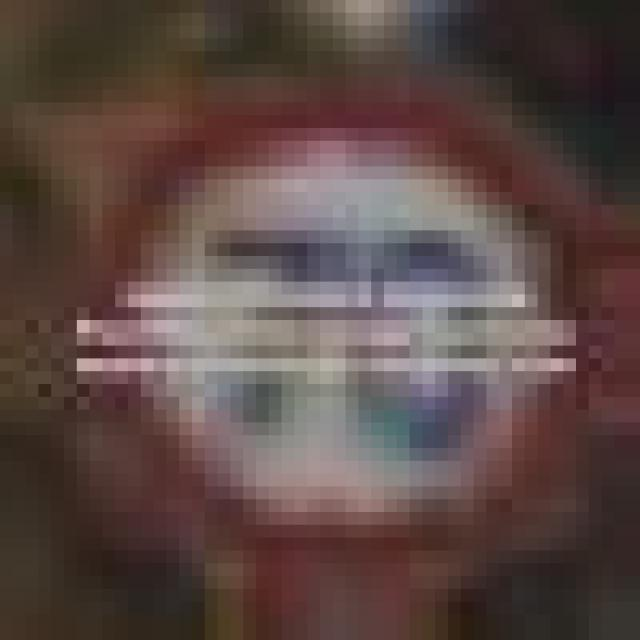SPEED_LIMIT_70: (77, 90, 576, 563)
